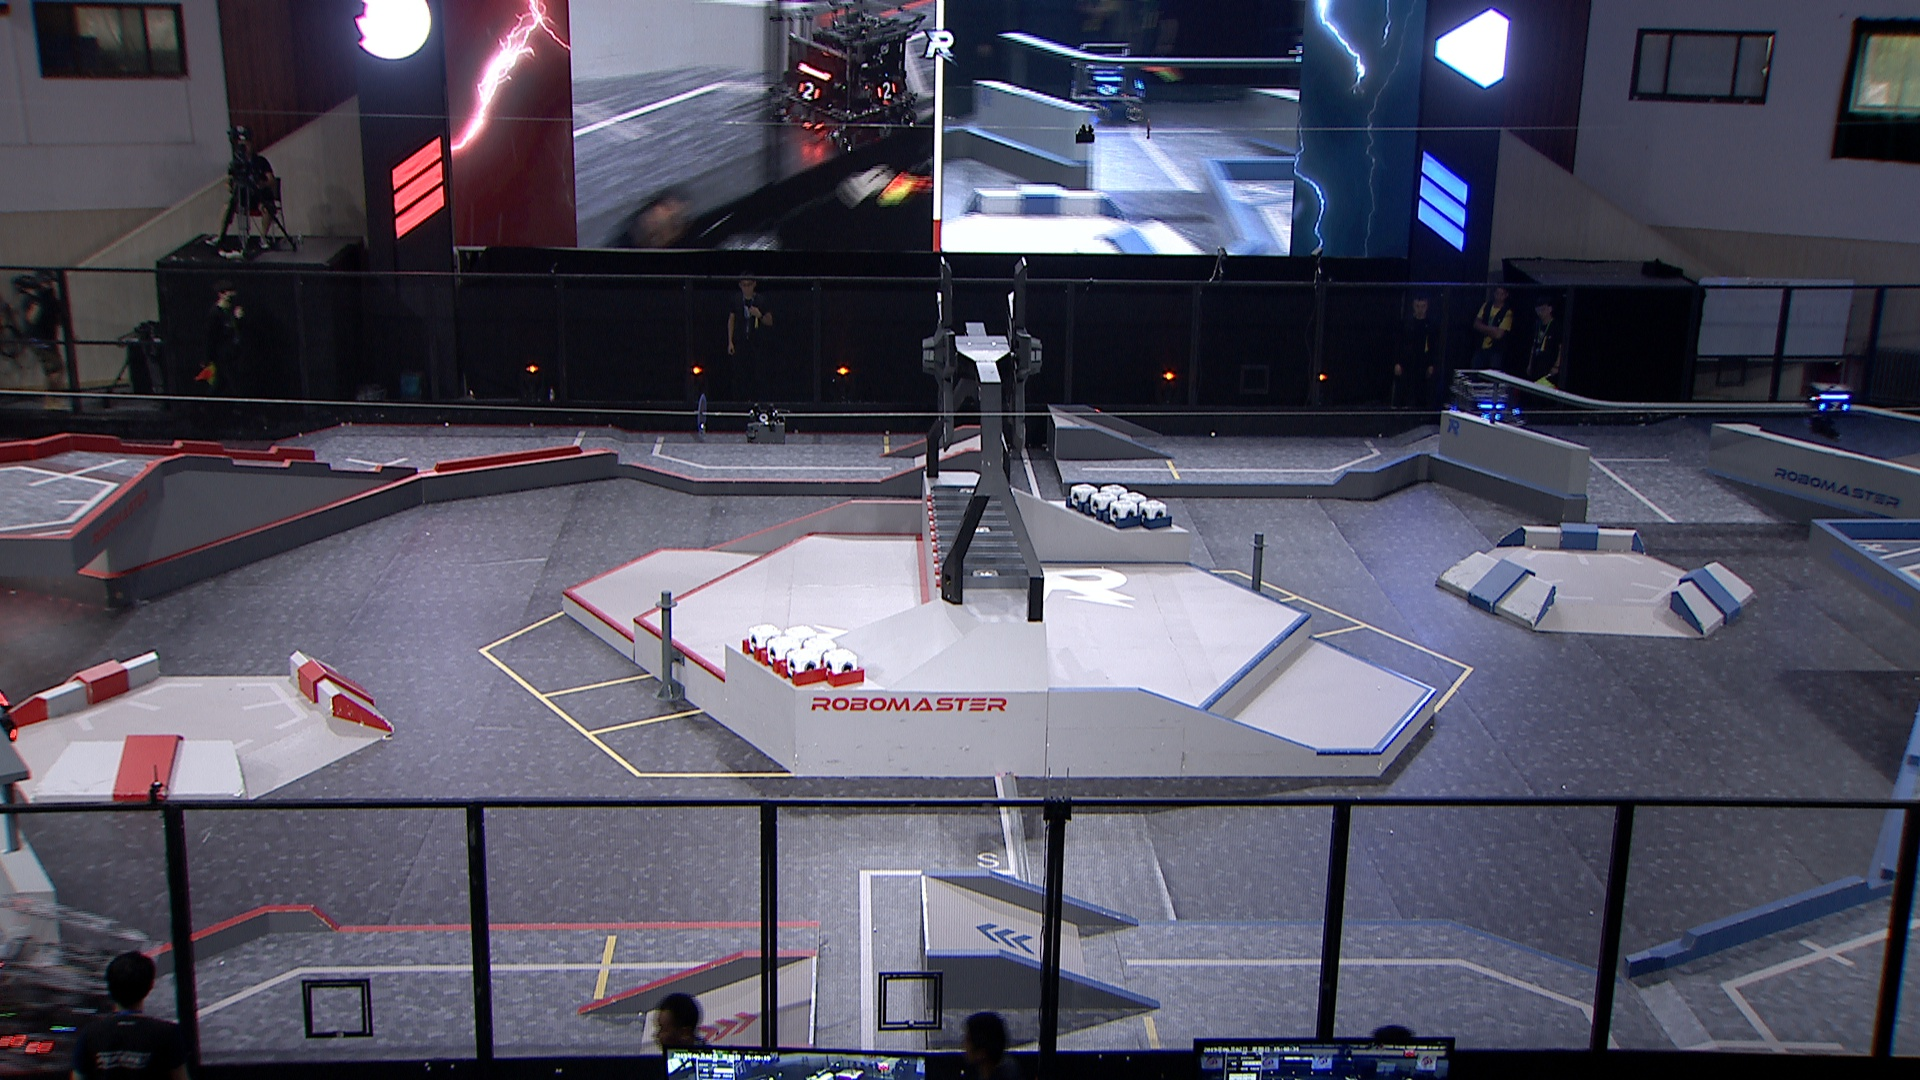armor: (3, 1031, 53, 1058), (1817, 400, 1849, 414)
car: (1443, 367, 1527, 438)
ignore: (1068, 41, 1150, 127)
watcher: (1803, 380, 1854, 442)
